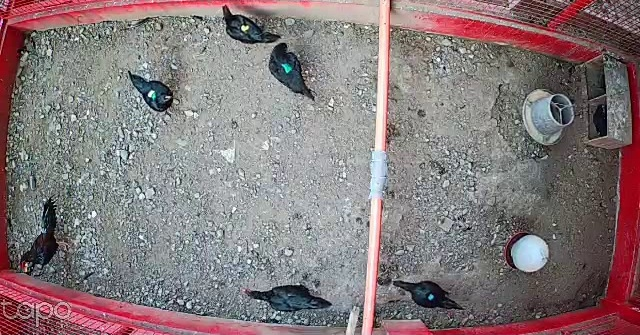Chicken: (263, 38, 319, 103), (390, 274, 467, 313), (243, 280, 336, 312), (215, 2, 281, 46), (127, 68, 180, 114)
Rooster: (18, 196, 80, 271)
Saddle_Color_Blue: (428, 294, 434, 301)
Saddle_Color_Yellow: (241, 24, 251, 34)
Saddle_Color_YellowGreen: (148, 91, 157, 101)
